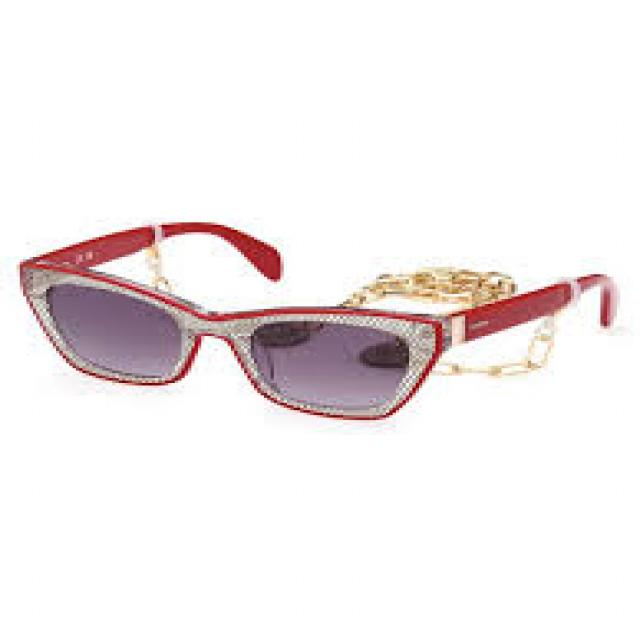suspicious-objects: (12, 198, 540, 428)
